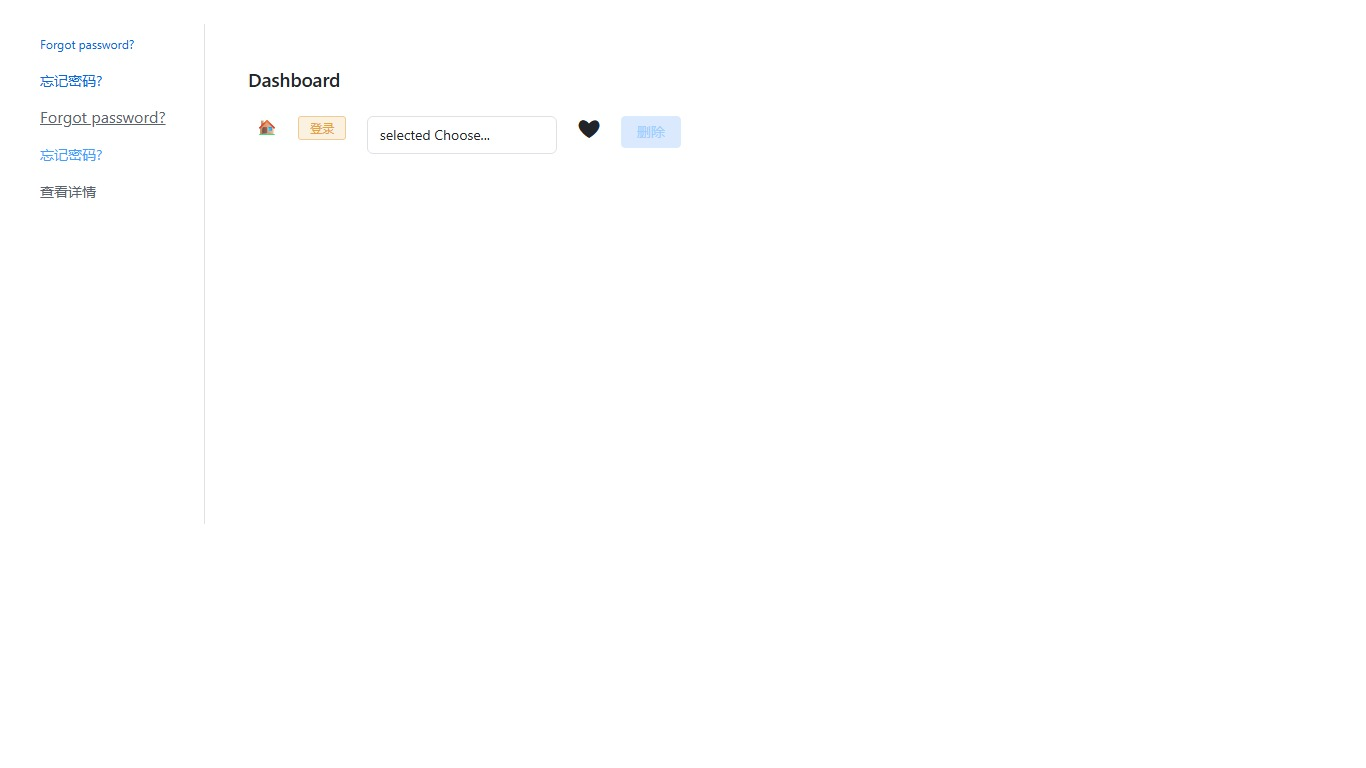button: (621, 116, 681, 148), (298, 116, 346, 140)
icon: (577, 116, 600, 140), (256, 119, 278, 135)
link: (40, 106, 166, 127), (40, 36, 134, 52), (40, 71, 102, 90), (40, 145, 102, 164), (40, 182, 96, 201)
select: (367, 116, 557, 154)
